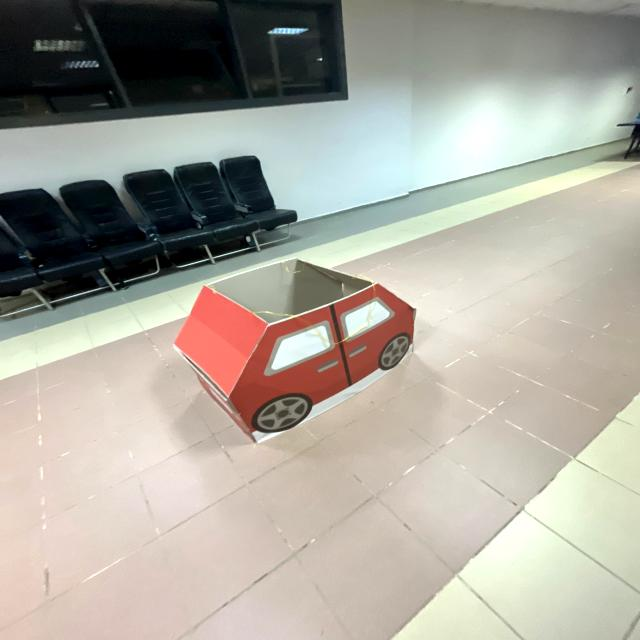red_car: (163, 253, 438, 455)
